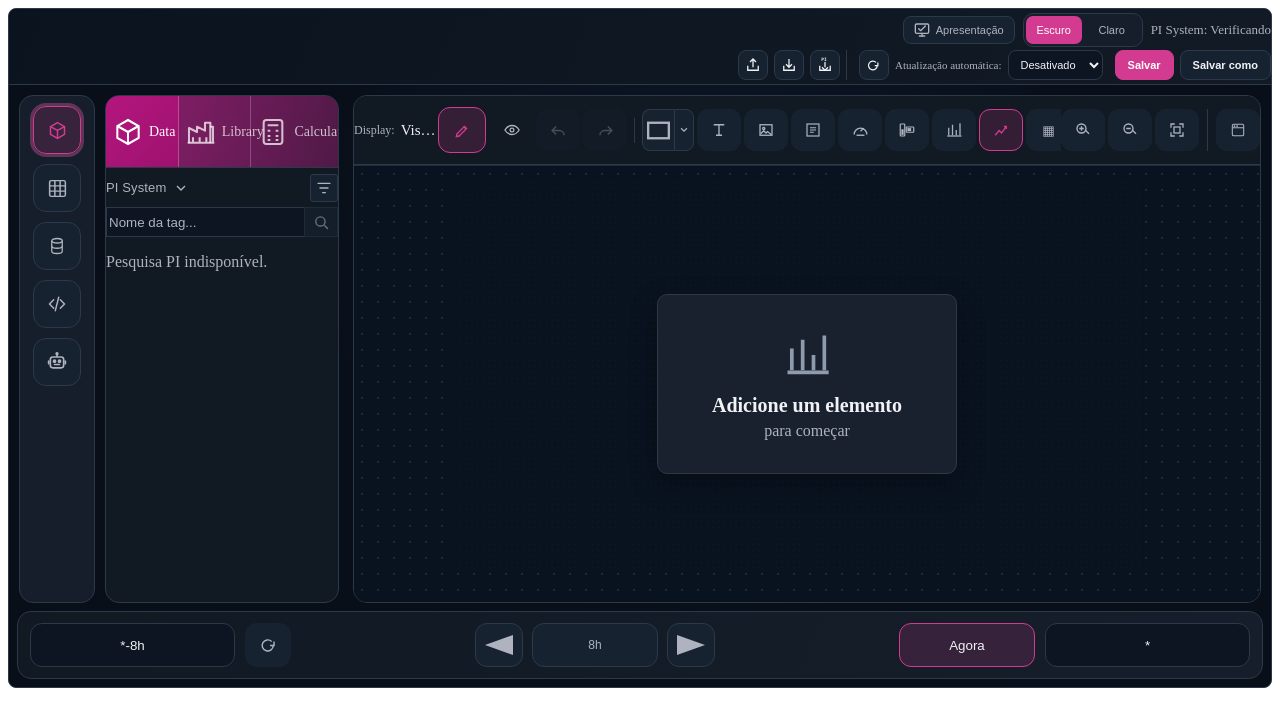
Test case: App › recolhe e reabre o painel lateral ao alternar o ícone do cubo
Check: the element with test id "pims-vision-assets-panel" shows "PI System", box [106, 180, 189, 196]
Check: the element with test id "display-editor-toolbar" is shown, box [536, 96, 1061, 164]
Click the button with test id "pims-vision-toggle-assets-panel". click: (57,130)
box: [33, 106, 81, 154]
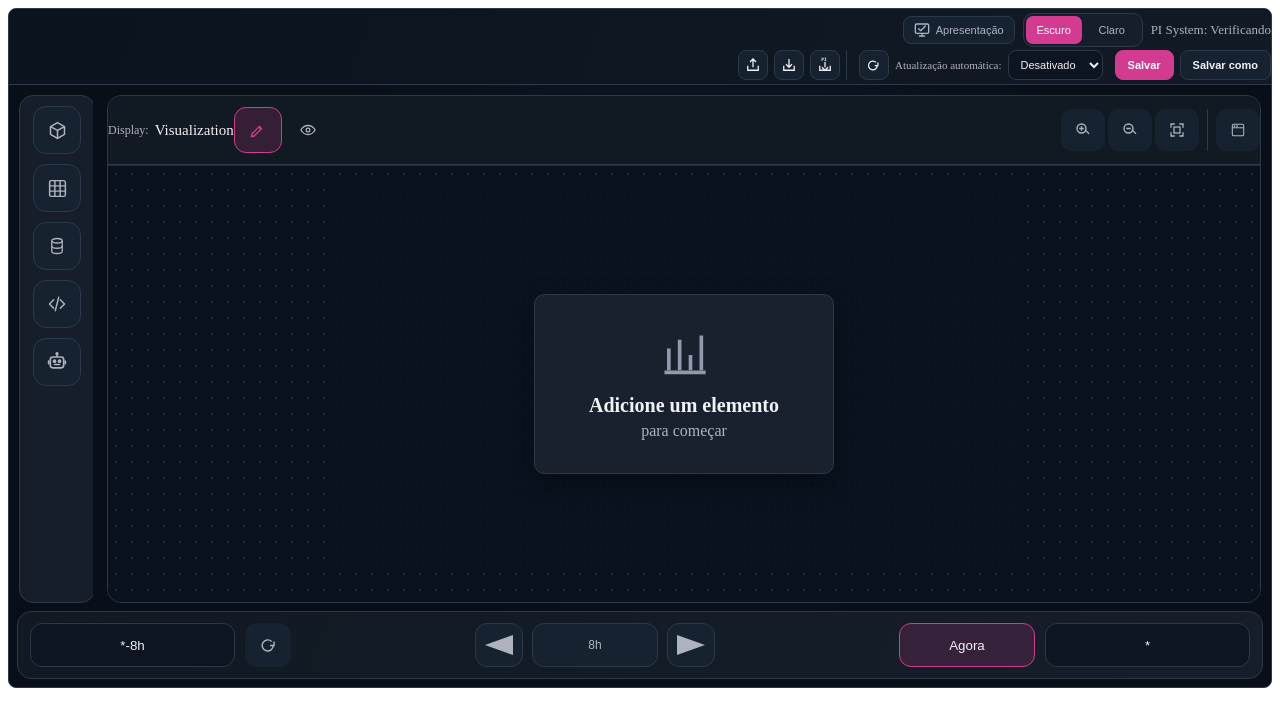
Check: the element with test id "pims-vision-assets-panel" does not show "PI System", box [19, 95, 93, 603]
Check: the element with test id "display-editor-toolbar" is gone
Click the button with test id "pims-vision-toggle-assets-panel". click: (57,130)
box: [33, 106, 81, 154]
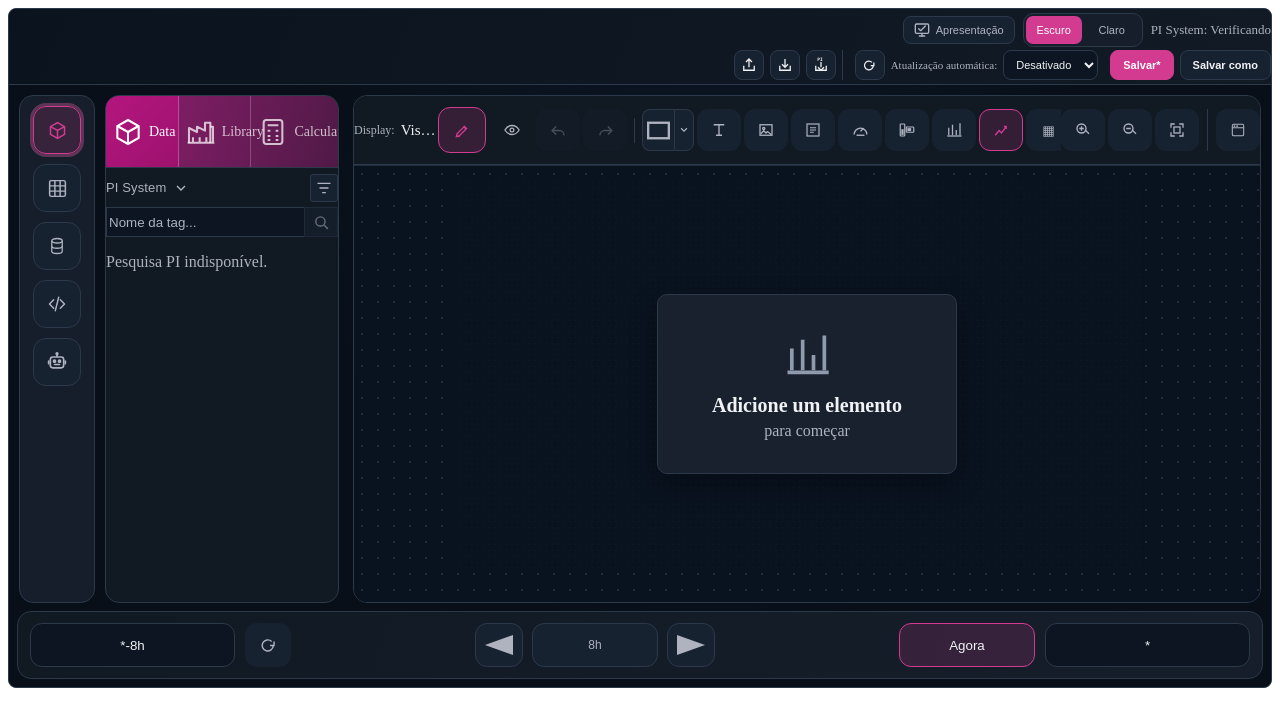
Check: the element with test id "pims-vision-assets-panel" shows "PI System", box [106, 180, 189, 196]
Check: the element with test id "display-editor-toolbar" is shown, box [536, 96, 1061, 164]
